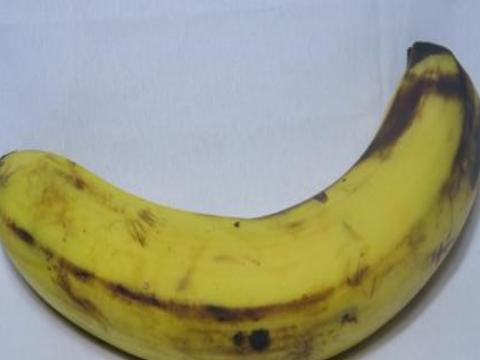ripe: (0, 38, 479, 359)
